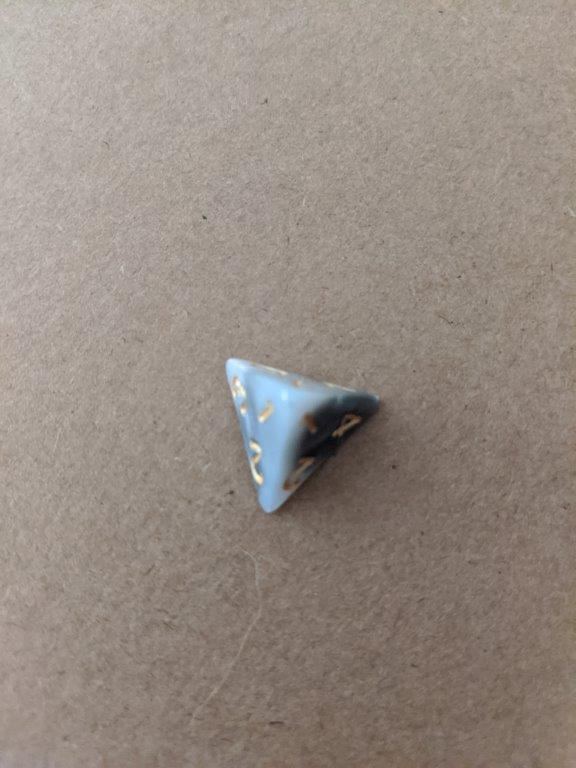d4-1: (220, 348, 386, 516)
